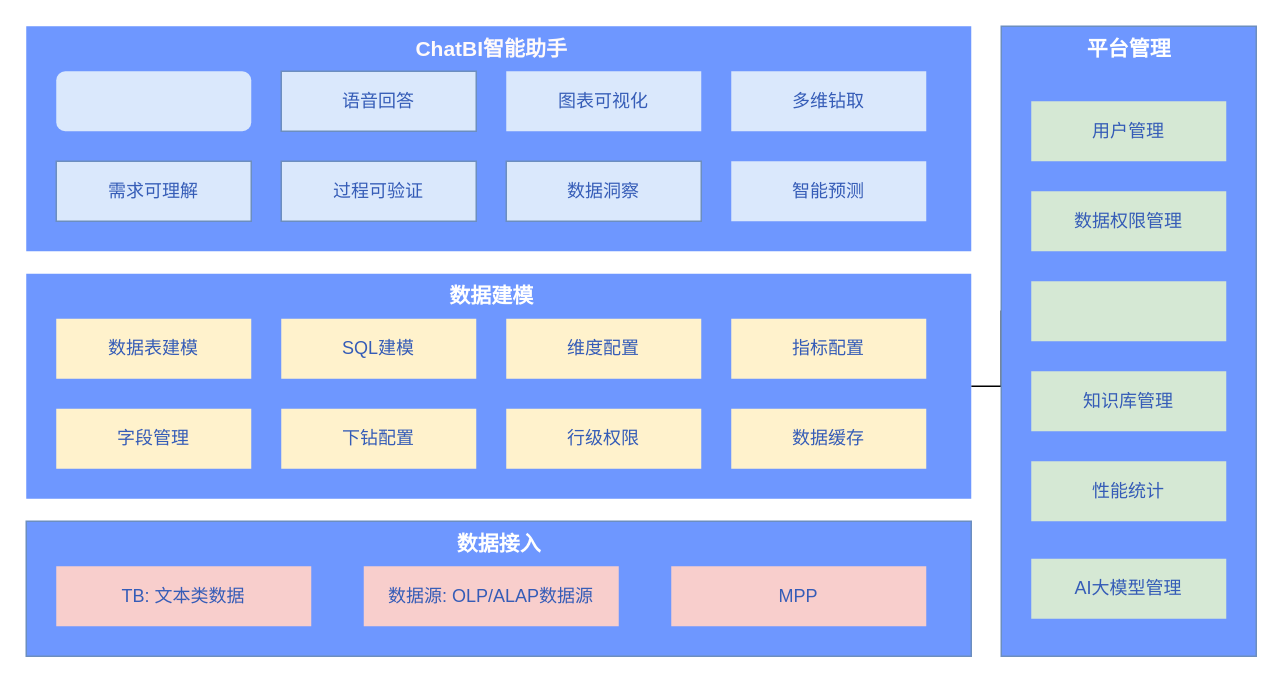
Some shapes in this 1283 by 683 pixel diagram are drawn without their labels. Each missing label, with the box of its shape:
回答反馈管理: (1030, 280, 1226, 340)
自然语言回答: (56, 70, 250, 130)
